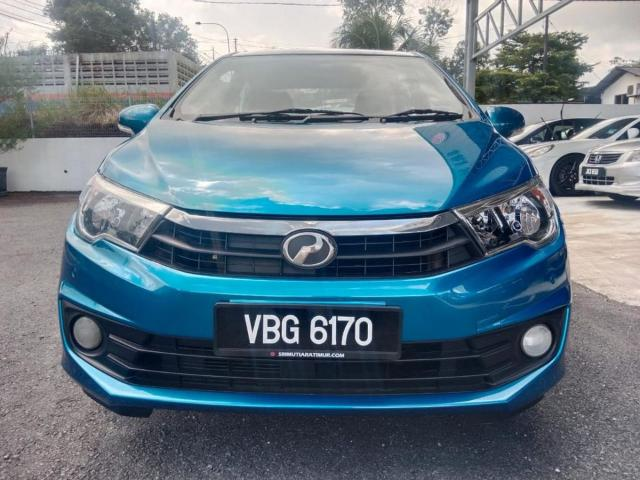License_Plate: (219, 303, 389, 356)
car: (52, 40, 574, 425)
